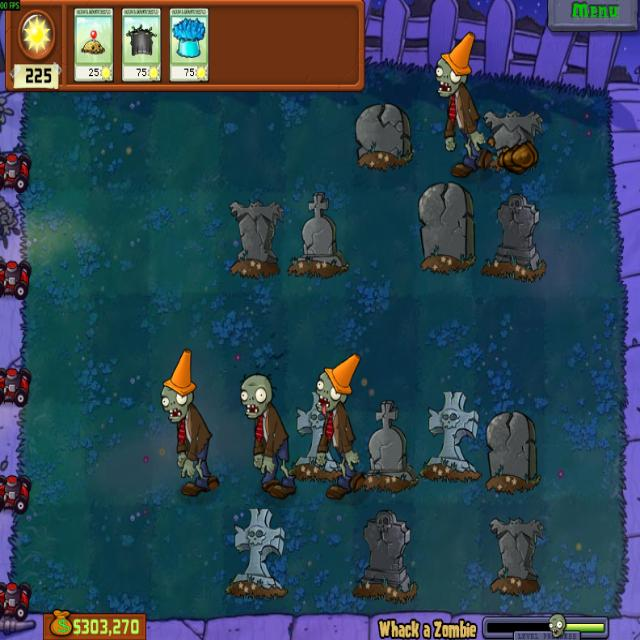conehead: (312, 350, 364, 413), (433, 31, 476, 98), (159, 348, 193, 425)
grave: (351, 511, 418, 600), (481, 190, 547, 278), (357, 397, 418, 491), (225, 505, 286, 597), (420, 390, 479, 484), (416, 183, 475, 273), (290, 189, 349, 278), (223, 197, 282, 279), (484, 409, 540, 492), (487, 516, 545, 595), (354, 103, 411, 168), (290, 393, 332, 480), (484, 105, 540, 162)
gravebuster: (122, 8, 161, 82)
zombie: (236, 372, 276, 421)
